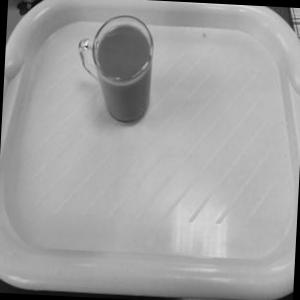coffee: (61, 1, 170, 136)
